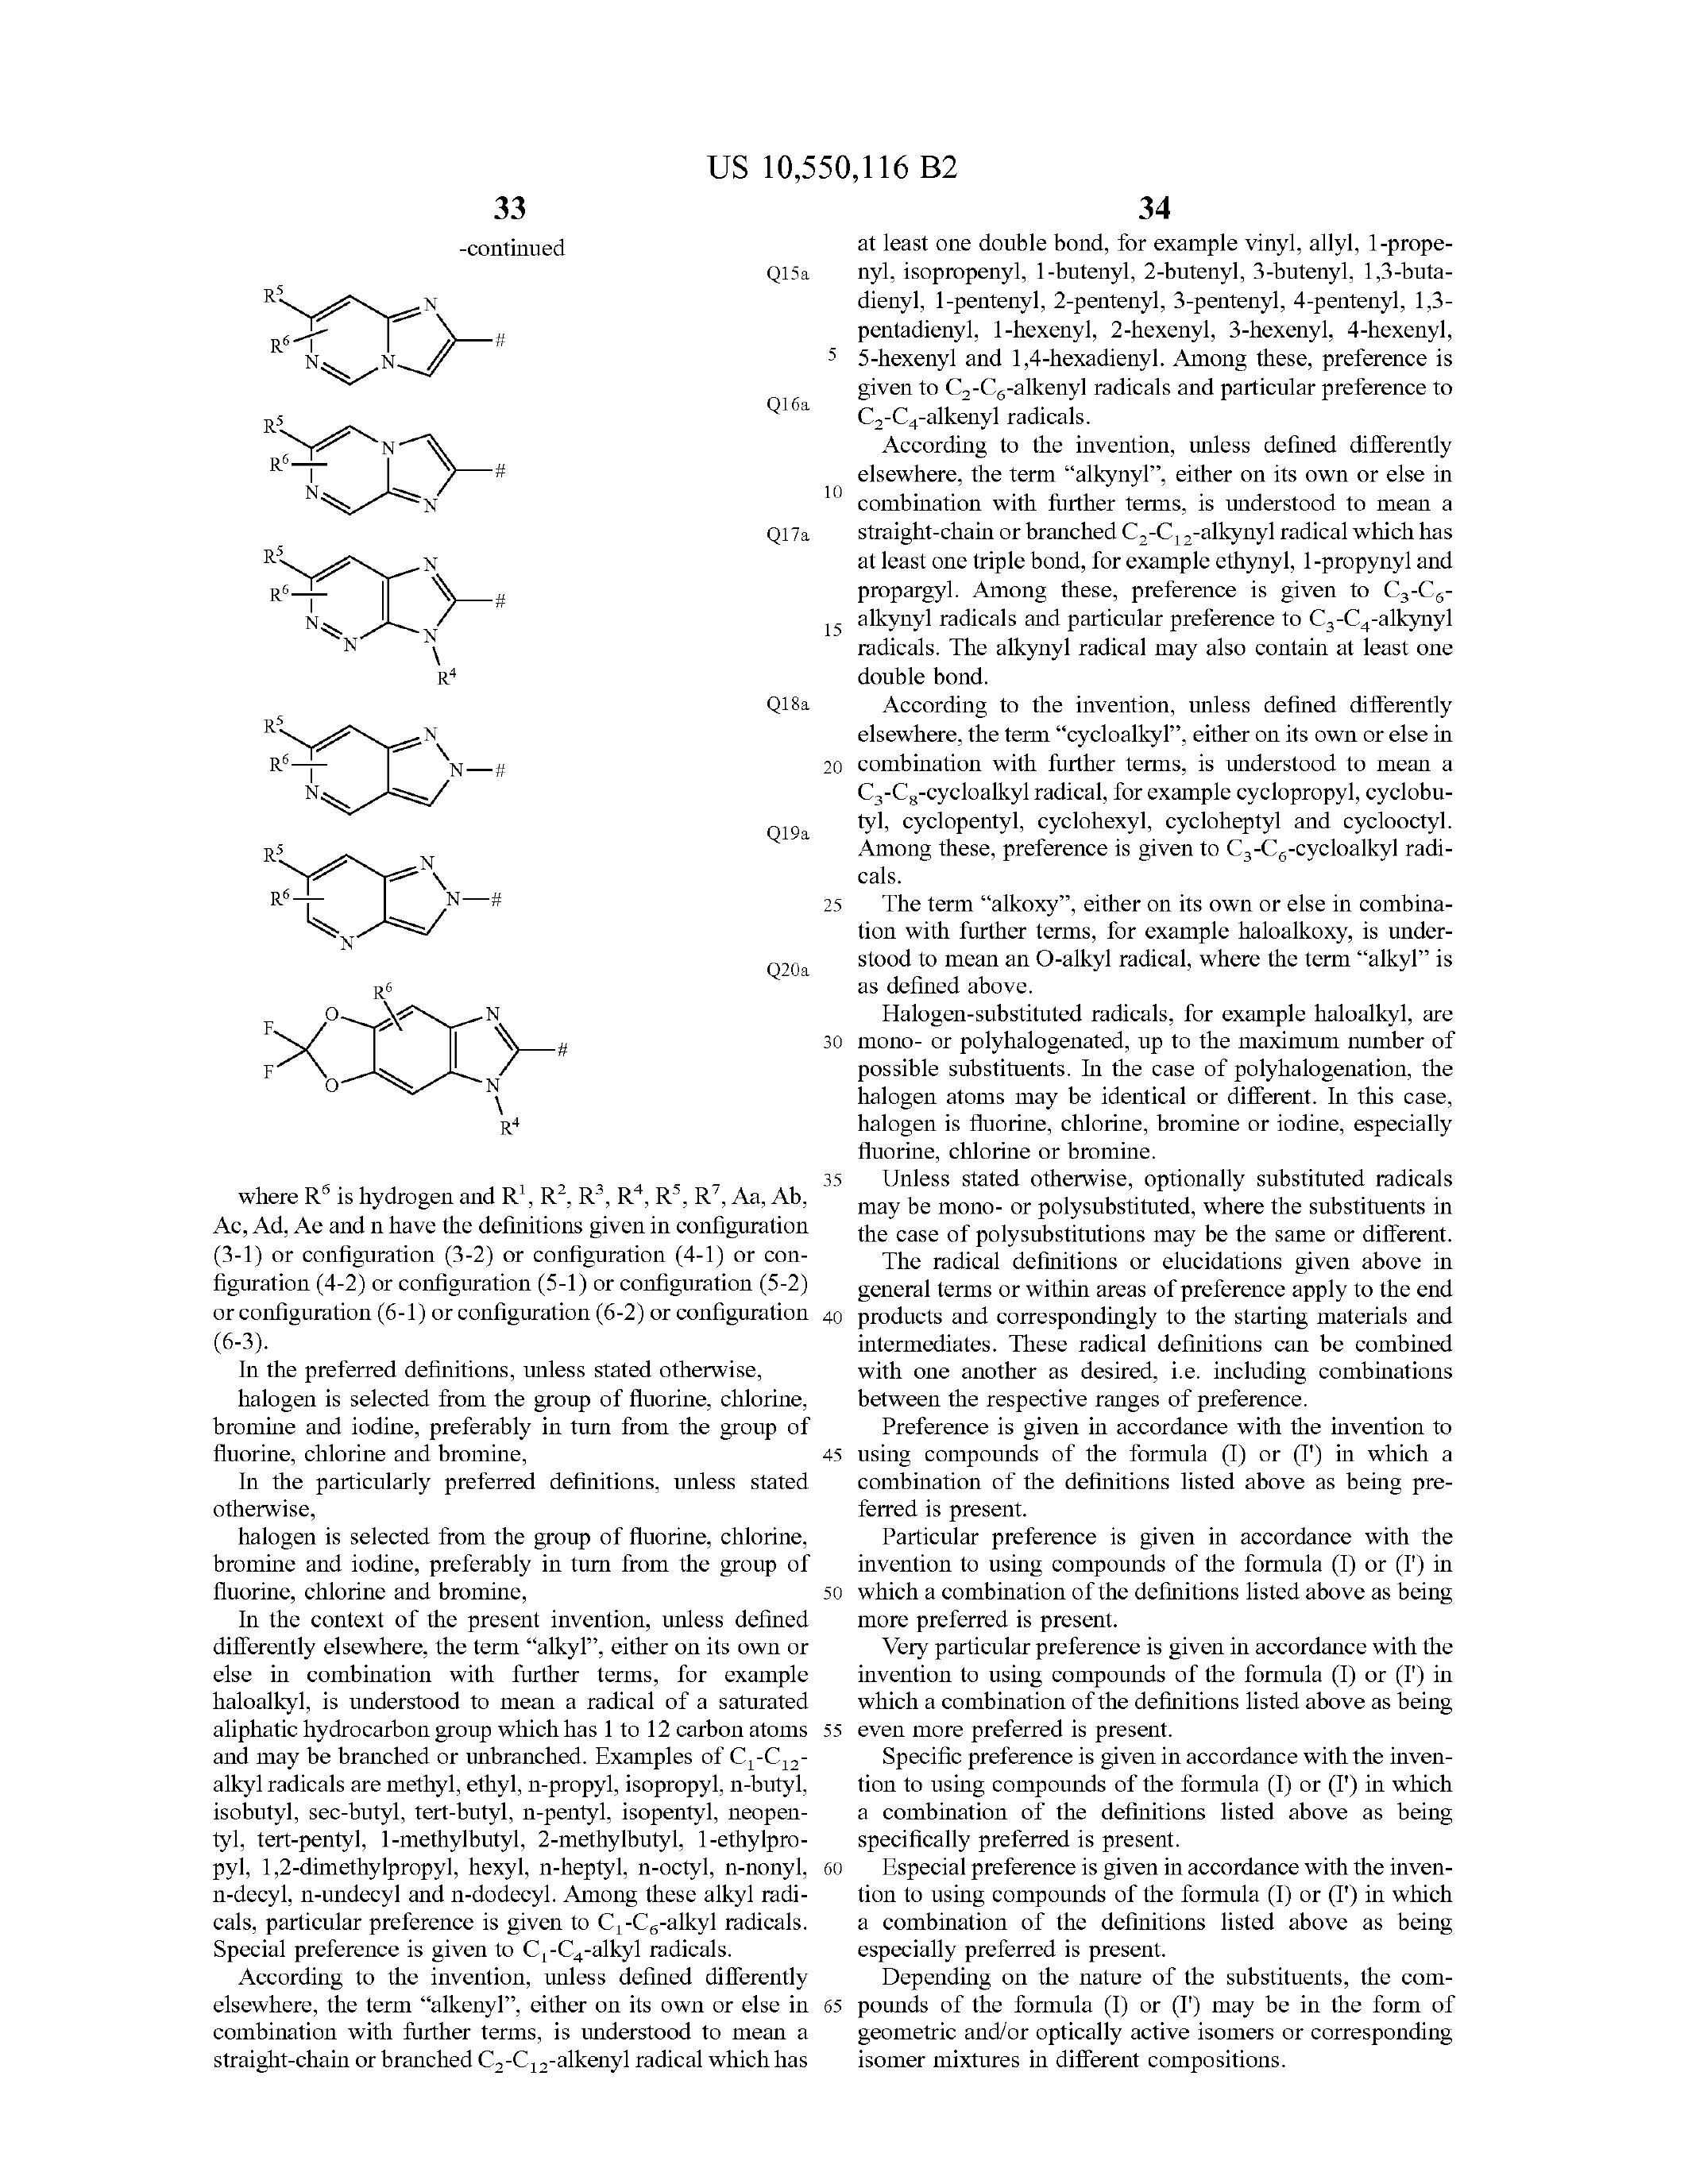substitutes: (145, 238, 619, 1129)
